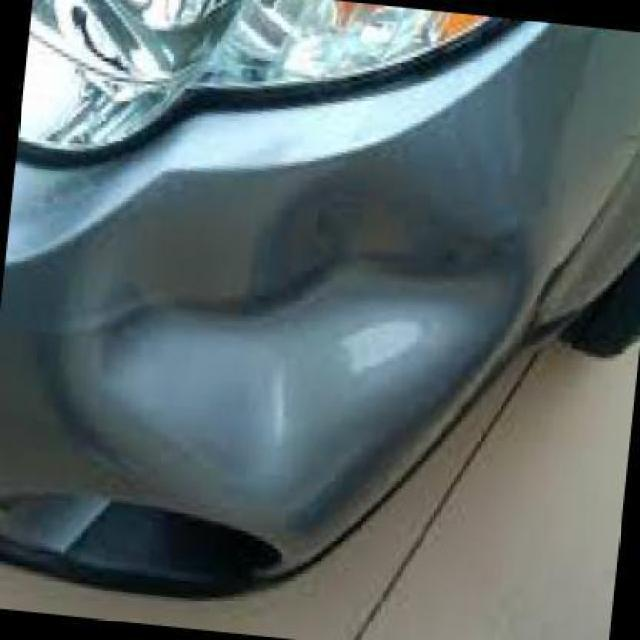dent: (71, 150, 522, 472)
